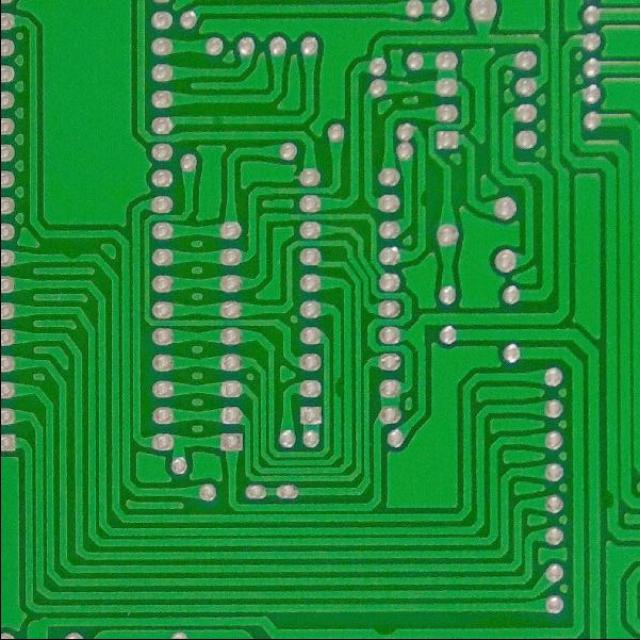mouse_bite: (366, 620, 401, 638), (330, 372, 345, 402), (602, 487, 618, 512), (60, 247, 84, 263), (415, 186, 429, 212)
